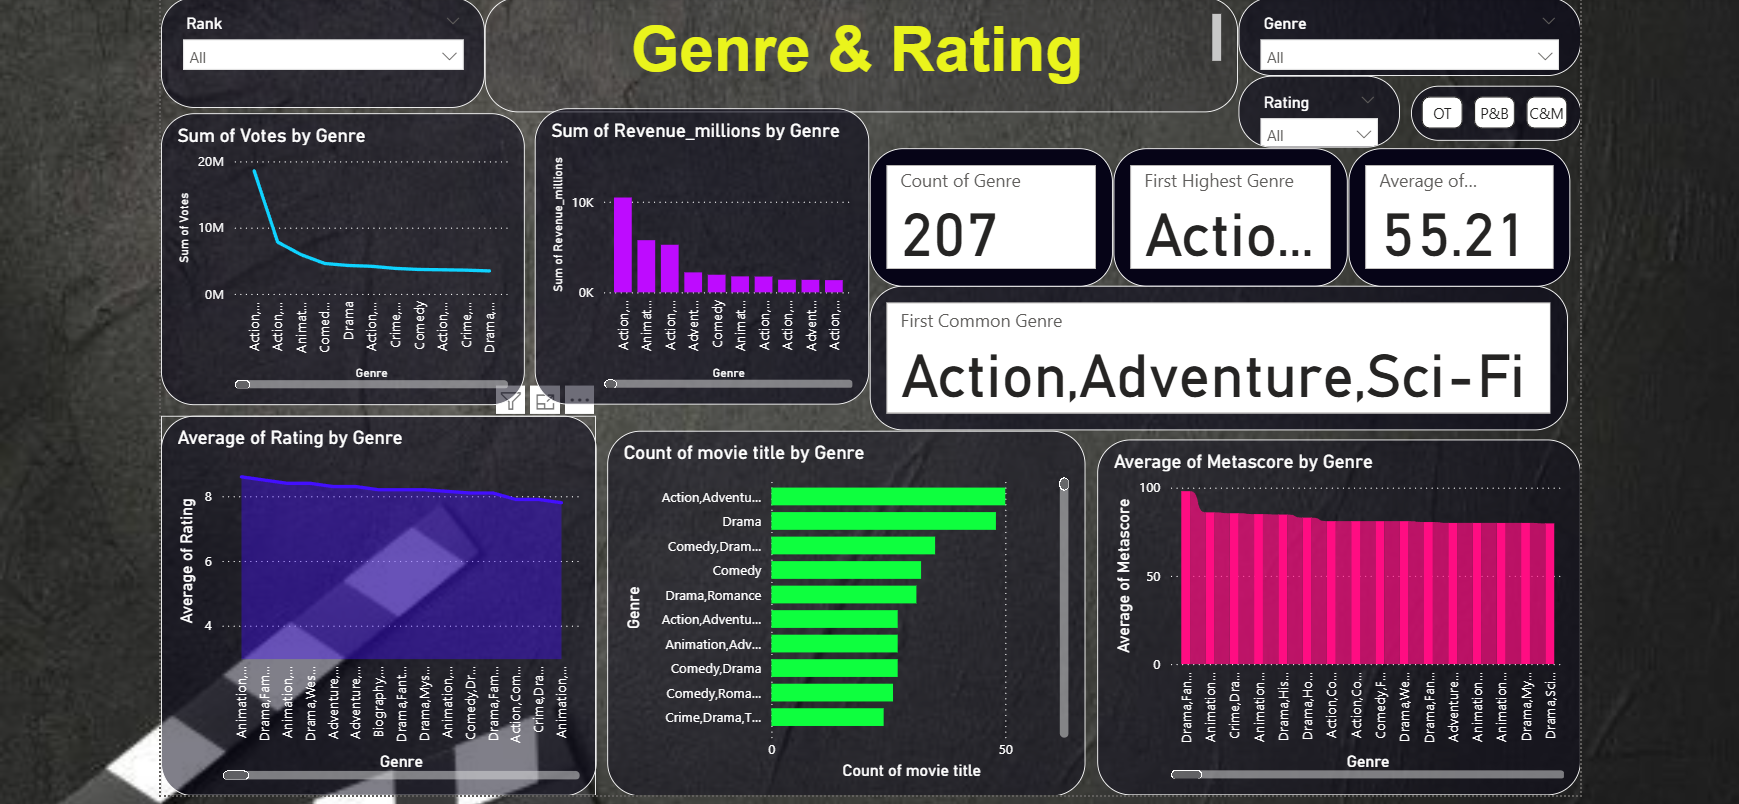

This screenshot's page, from the dashboard's own definition file:
{"tool":"powerbi","page":{"name":"G&R","canvas":[1280,720],"ordinal":1},"visuals":[{"type":"textbox","box":[292.3,0,679.2,104.3],"z":0},{"type":"barChart","fields":{"Category":["IMDB-Movie-Data.Genre"],"Y":["CountNonNull(IMDB-Movie-Data.movie title)"]},"box":[402.1,391.1,430.9,329.3],"z":1000},{"type":"areaChart","fields":{"Category":["IMDB-Movie-Data.Genre"],"Y":["Avg(IMDB-Movie-Data.Rating)"]},"box":[0,377.4,392.5,343.1],"z":2000},{"type":"columnChart","fields":{"Category":["IMDB-Movie-Data.Genre"],"Y":["Sum(IMDB-Movie-Data.Revenue_millions)"]},"box":[337.6,100.2,301.9,267.6],"z":3000},{"type":"ribbonChart","fields":{"Category":["IMDB-Movie-Data.Genre"],"Y":["Avg(IMDB-Movie-Data.Metascore)"]},"box":[843.9,399.3,436.4,321.1],"z":4000},{"type":"lineChart","fields":{"Category":["IMDB-Movie-Data.Genre"],"Y":["Sum(IMDB-Movie-Data.Votes)"]},"box":[0,104.3,328,263.5],"z":5000},{"type":"cardVisual","fields":{"Data":["Min(IMDB-Movie-Data.Highest Genre)"]},"box":[859,135.8,211.3,124.9],"z":6000},{"type":"cardVisual","fields":{"Data":["Min(IMDB-Movie-Data.Common Genre)"]},"box":[639.5,260.7,629.8,130.4],"z":7000},{"type":"cardVisual","fields":{"Data":["Count(IMDB-Movie-Data.Genre)"]},"box":[639.5,135.8,219.6,124.9],"z":8000},{"type":"cardVisual","fields":{"Data":["Avg(IMDB-Movie-Data.Metascore)"]},"box":[1070.3,135.8,200.3,124.9],"z":9000},{"type":"slicer","fields":{"Values":["IMDB-Movie-Data.Genre"]},"box":[971.5,0,308.7,71.4],"z":10000},{"type":"slicer","fields":{"Values":["IMDB-Movie-Data.Rank"]},"box":[0,0,292.3,100.2],"z":11000},{"type":"slicer","fields":{"Values":["IMDB-Movie-Data.Rating"]},"box":[971.5,71.4,145.5,64.5],"z":12000},{"type":"pageNavigator","box":[1126.6,79.6,153.7,49.4],"z":13000}]}

Visuals, with their boxes on the page's 1280x720 design canvas (x1, y1, x2, y2). These are canvas units, not pixel positions in the 1739x804 screenshot, which may show the page scaled, cropped or inside an application window:
textbox: l=292, t=0, r=972, b=104
barChart - IMDB-Movie-Data.Genre x CountNonNull(IMDB-Movie-Data.movie title): l=402, t=391, r=833, b=720
areaChart - IMDB-Movie-Data.Genre x Avg(IMDB-Movie-Data.Rating): l=0, t=377, r=392, b=720
columnChart - IMDB-Movie-Data.Genre x Sum(IMDB-Movie-Data.Revenue_millions): l=338, t=100, r=640, b=368
ribbonChart - IMDB-Movie-Data.Genre x Avg(IMDB-Movie-Data.Metascore): l=844, t=399, r=1280, b=720
lineChart - IMDB-Movie-Data.Genre x Sum(IMDB-Movie-Data.Votes): l=0, t=104, r=328, b=368
cardVisual - Min(IMDB-Movie-Data.Highest Genre): l=859, t=136, r=1070, b=261
cardVisual - Min(IMDB-Movie-Data.Common Genre): l=640, t=261, r=1269, b=391
cardVisual - Count(IMDB-Movie-Data.Genre): l=640, t=136, r=859, b=261
cardVisual - Avg(IMDB-Movie-Data.Metascore): l=1070, t=136, r=1271, b=261
slicer - IMDB-Movie-Data.Genre: l=972, t=0, r=1280, b=71
slicer - IMDB-Movie-Data.Rank: l=0, t=0, r=292, b=100
slicer - IMDB-Movie-Data.Rating: l=972, t=71, r=1117, b=136
pageNavigator: l=1127, t=80, r=1280, b=129
